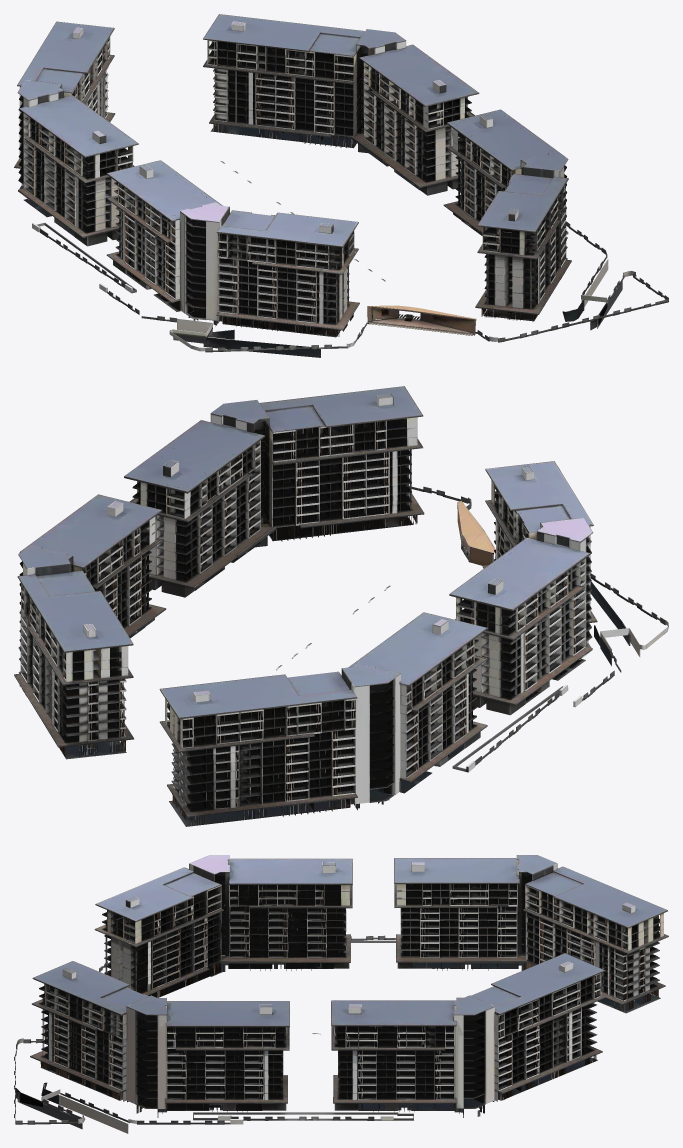
Rendered from Yaafour_build_3.glb.
3 views of the same model, one above another, from view 1: azimuth 30°, elevation 25°; view 2: azimuth 150°, elevation 25°; view 3: azimuth 270°, elevation 25° (orthographic). The views are drawn at different scales.
Visible parts, largest first — view 1: house_3; view 2: house_3; view 3: house_3.
Part boxes in pixels (x1=…): house_3: x1=14, y1=14, x2=668, y2=357; house_3: x1=14, y1=386, x2=668, y2=826; house_3: x1=14, y1=855, x2=668, y2=1133.
Bounding box in the file's own units: 189 × 48.08 × 271.
Materials: 4 (4 with a texture image).
